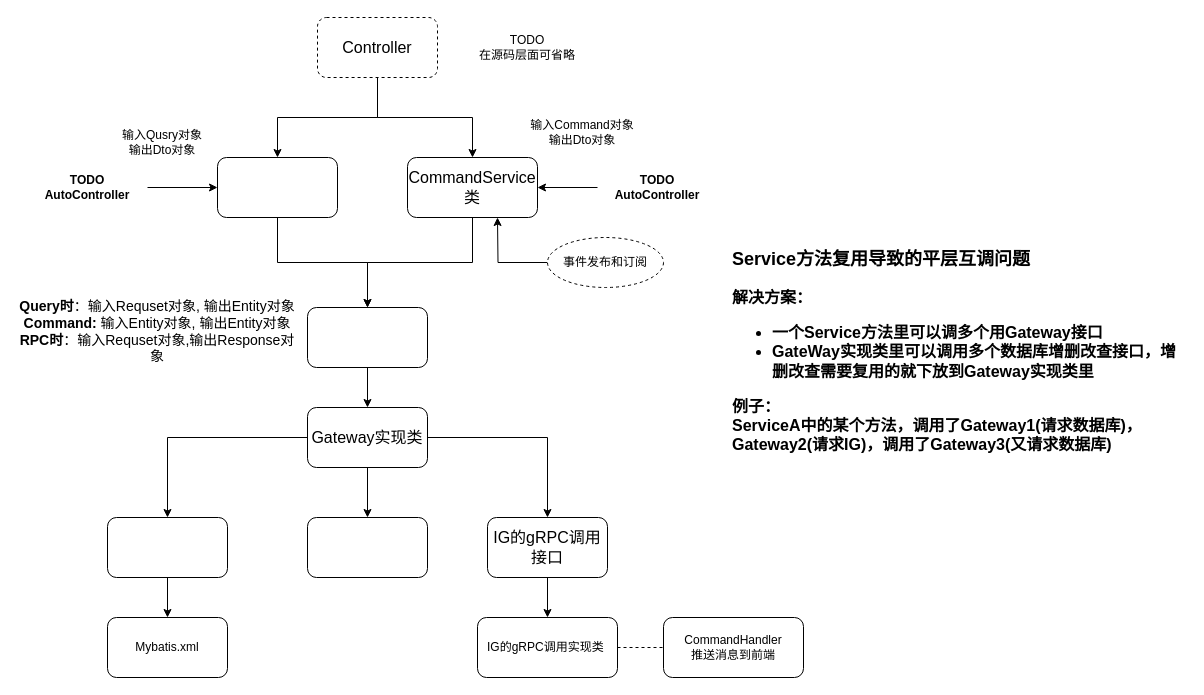
Image size: 1204x695. Some labels were removed from this diagram. The shapes that lost their labels are listed below. From the top down, each one's centre as x and y in pixels, then its label:
(x=277, y=187): QueryService 类
(x=367, y=337): Gateway接口
(x=167, y=547): 数据库增删改查接口
(x=367, y=547): RPC调用接口 （自动实现类）
